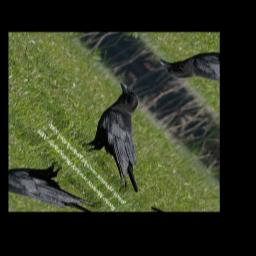Crow: (55, 80, 197, 198)
